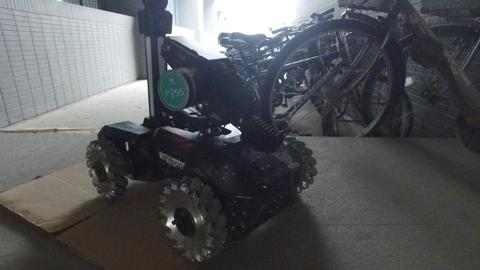bike: (256, 9, 474, 139)
chariot: (101, 1, 305, 254)
